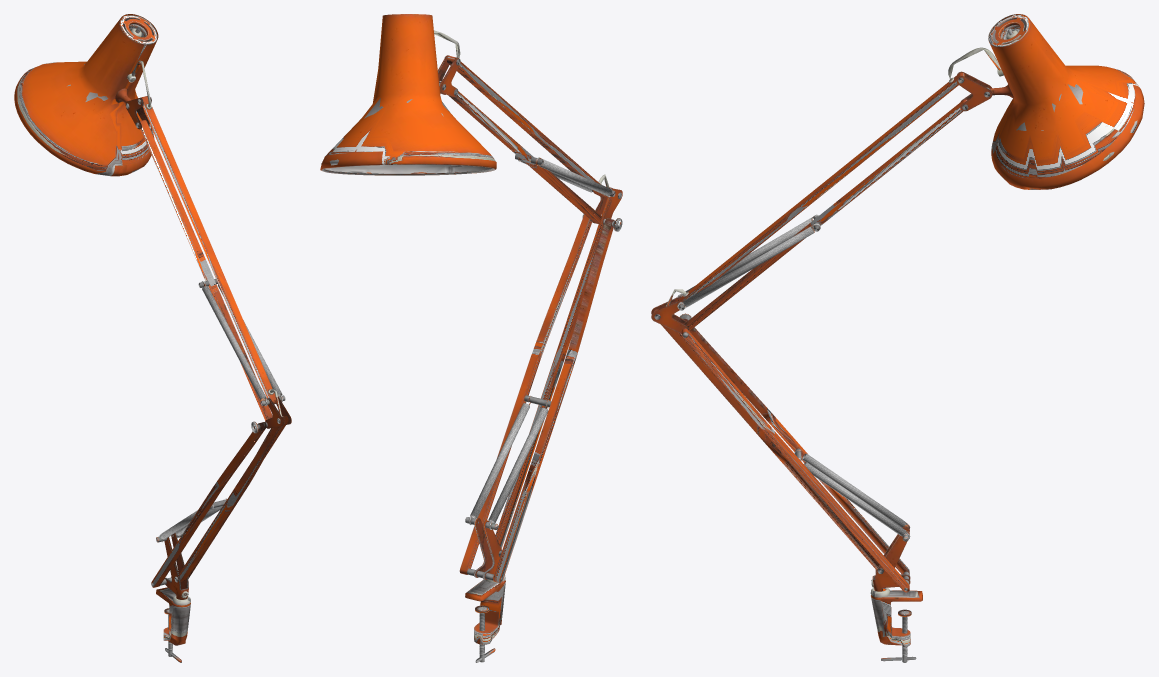
The model's file is desk_lamp_arm_01.glb.
3 renders of one model, left to right at view 1: azimuth 30°, elevation 25°; view 2: azimuth 150°, elevation 25°; view 3: azimuth 270°, elevation 25°, orthographic. The views are drawn at different scales.
Parts seen in each view (by area): view 1: desk_lamp_arm_01; view 2: desk_lamp_arm_01; view 3: desk_lamp_arm_01.
Part boxes in pixels (x1,y1,x2,y2): desk_lamp_arm_01: [14, 14, 291, 662]; desk_lamp_arm_01: [320, 14, 622, 662]; desk_lamp_arm_01: [651, 14, 1144, 662].
Size of the model in its own units: 0.2013 by 0.8926 by 0.6139.
2 materials, 2 textured.
